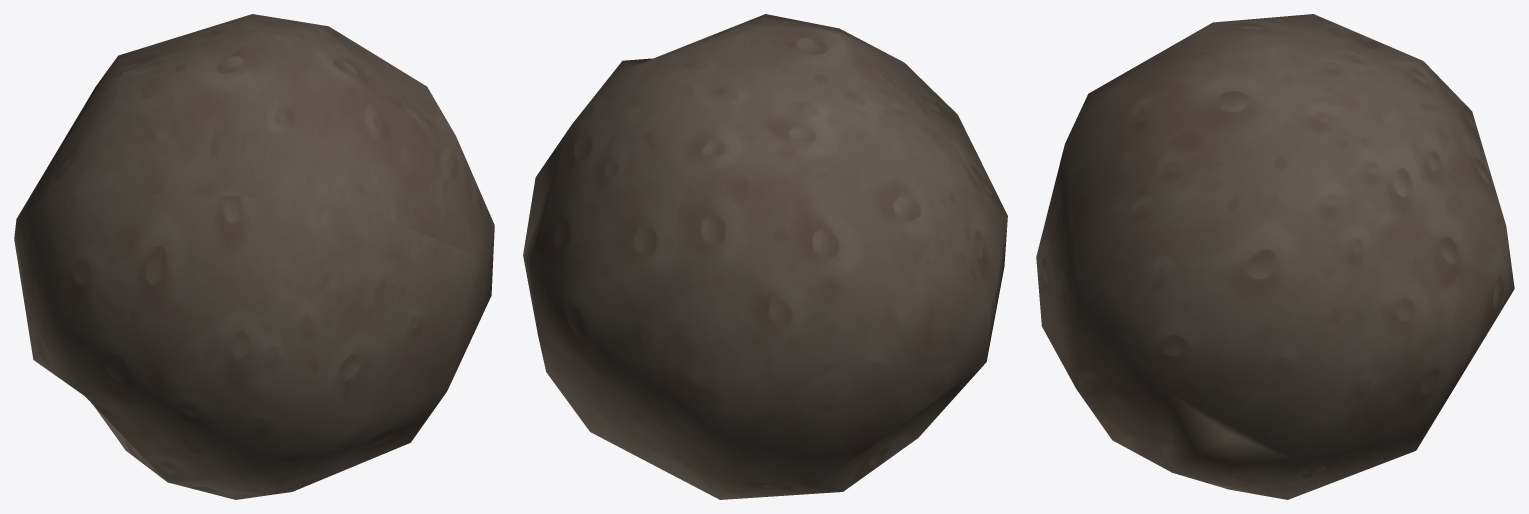
The model's file is asteroid_obstacle.FBX.
3 renders of one model, left to right at view 1: azimuth 30°, elevation 25°; view 2: azimuth 150°, elevation 25°; view 3: azimuth 270°, elevation 25°, orthographic.
Visible parts, largest first — view 1: asteroid_obstacle; view 2: asteroid_obstacle; view 3: asteroid_obstacle.
Part boxes in pixels (left/top/right/bottom): asteroid_obstacle: left=14, top=14, right=494, bottom=499; asteroid_obstacle: left=523, top=14, right=1007, bottom=499; asteroid_obstacle: left=1036, top=14, right=1514, bottom=499.
Size of the model in its own units: 7.68 by 7.87 by 7.69.
